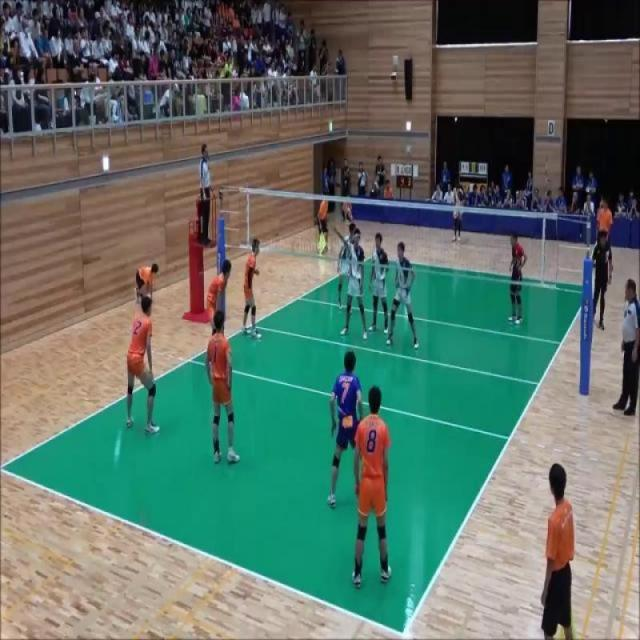volleyball: (452, 210, 459, 220)
